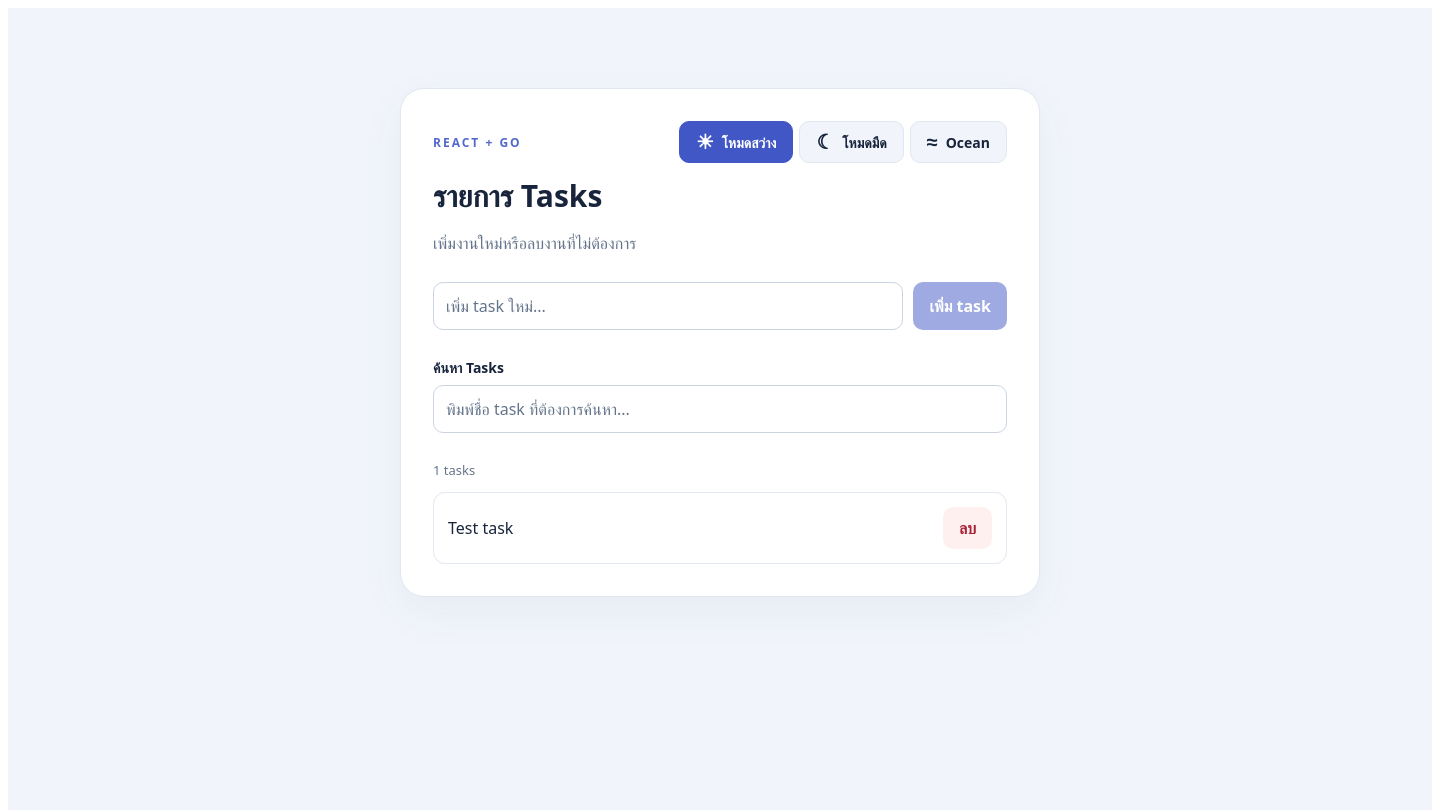
Scenario: App › keeps a task when deletion fails
Click the button "ลบ" at (967, 528), box [943,507,992,549]
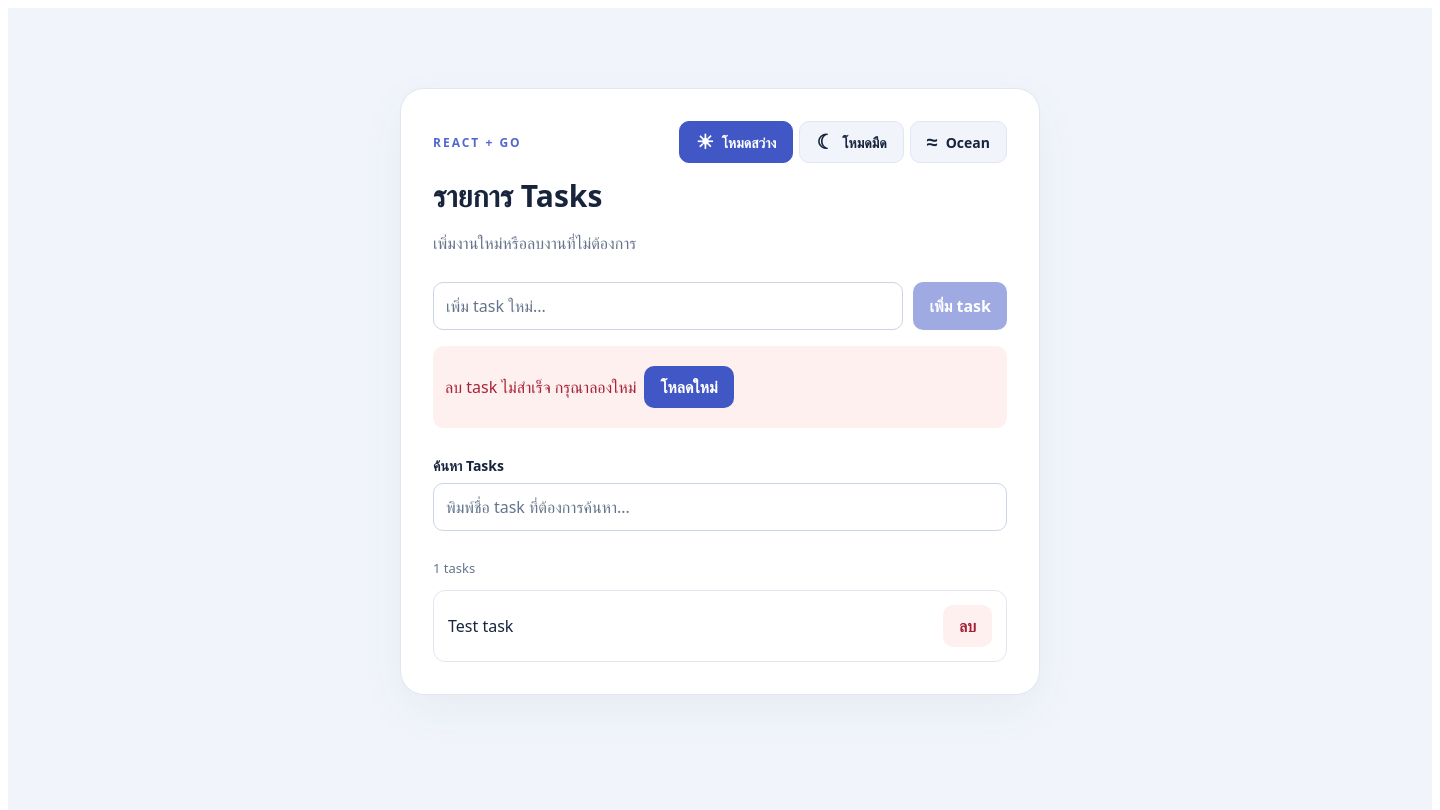
Expected: the text "Test task" is shown, [448,615,513,637]
Expected: the message "ลบ task ไม่สำเร็จ กรุณาลองใหม่ โหลดใหม่" is shown, [433,346,1007,428]
